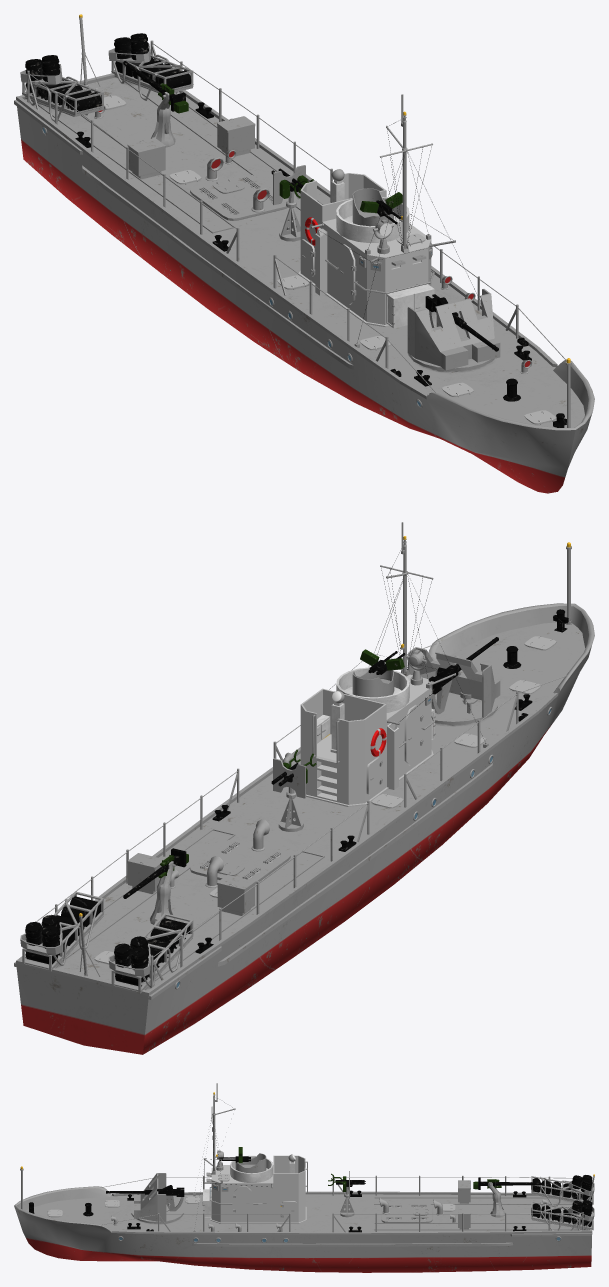
3 views of the same model, one above another, from view 1: azimuth 30°, elevation 25°; view 2: azimuth 150°, elevation 25°; view 3: azimuth 270°, elevation 25° (orthographic). The views are drawn at different scales.
Visible parts, largest first — view 1: Ship, details, zad, pushki, Budka, small; view 2: Ship, zad, details, Budka, pushki, small; view 3: Ship, zad, details, Budka, pushki, small.
Part boxes in pixels (x1,y1,x2,y2): Ship: (16, 73, 594, 493); details: (14, 14, 571, 427); zad: (20, 33, 323, 233); pushki: (123, 61, 500, 370); Budka: (298, 173, 431, 327); small: (27, 40, 566, 392); Ship: (16, 603, 594, 1054); zad: (20, 829, 324, 993); details: (14, 542, 572, 999); Budka: (300, 672, 433, 806); pushki: (123, 637, 500, 926); small: (36, 522, 567, 987); Ship: (14, 1186, 592, 1272); zad: (374, 1175, 594, 1230); details: (20, 1150, 594, 1246); Budka: (210, 1155, 306, 1223); pushki: (106, 1147, 542, 1221); small: (100, 1083, 583, 1232).
Size of the model in its own units: 0.3417 by 0.6764 by 2.
